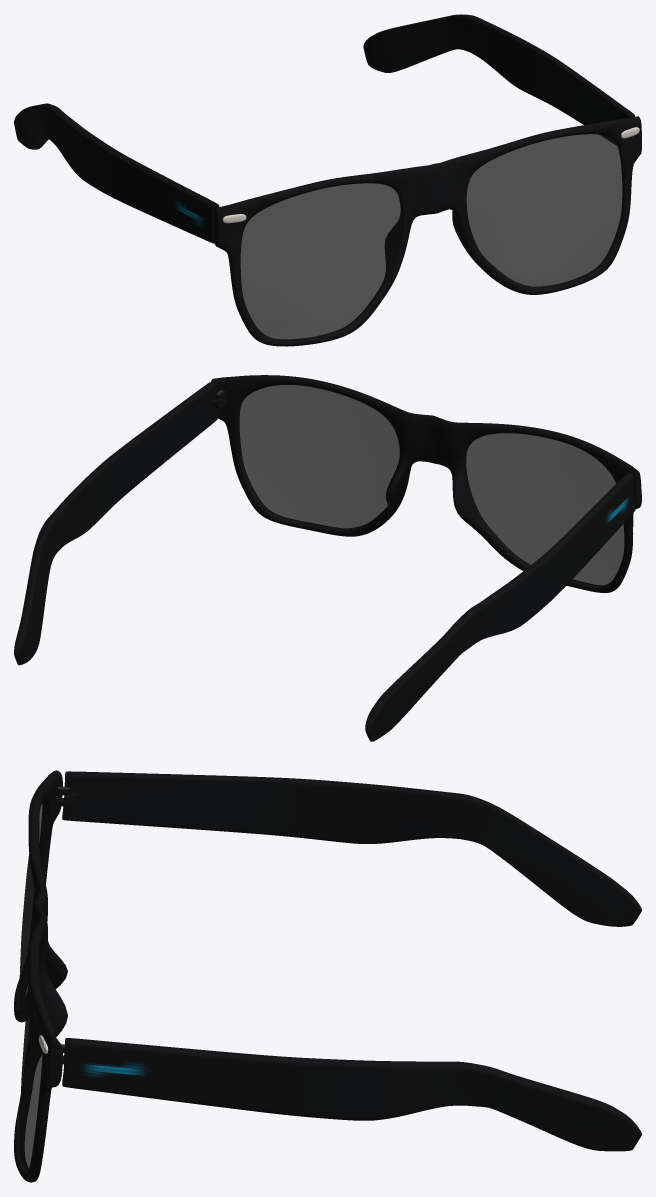
The model's file is black.glb.
3 views of the same model, one above another, from view 1: azimuth 30°, elevation 25°; view 2: azimuth 150°, elevation 25°; view 3: azimuth 270°, elevation 25° (orthographic). The views are drawn at different scales.
Visible parts, largest first — view 1: glass, glass_Black_0.001; view 2: glass; view 3: glass, glass_Black_0.001.
Part boxes in pixels (x1,y1,x2,y2): glass: [14, 14, 641, 346]; glass_Black_0.001: [216, 116, 641, 276]; glass: [14, 375, 641, 741]; glass: [14, 770, 641, 1182]; glass_Black_0.001: [25, 771, 82, 1091].
Size of the model in its own units: 0.1569 by 0.0544 by 0.1541.
Materials: 3 (2 with a texture image).
